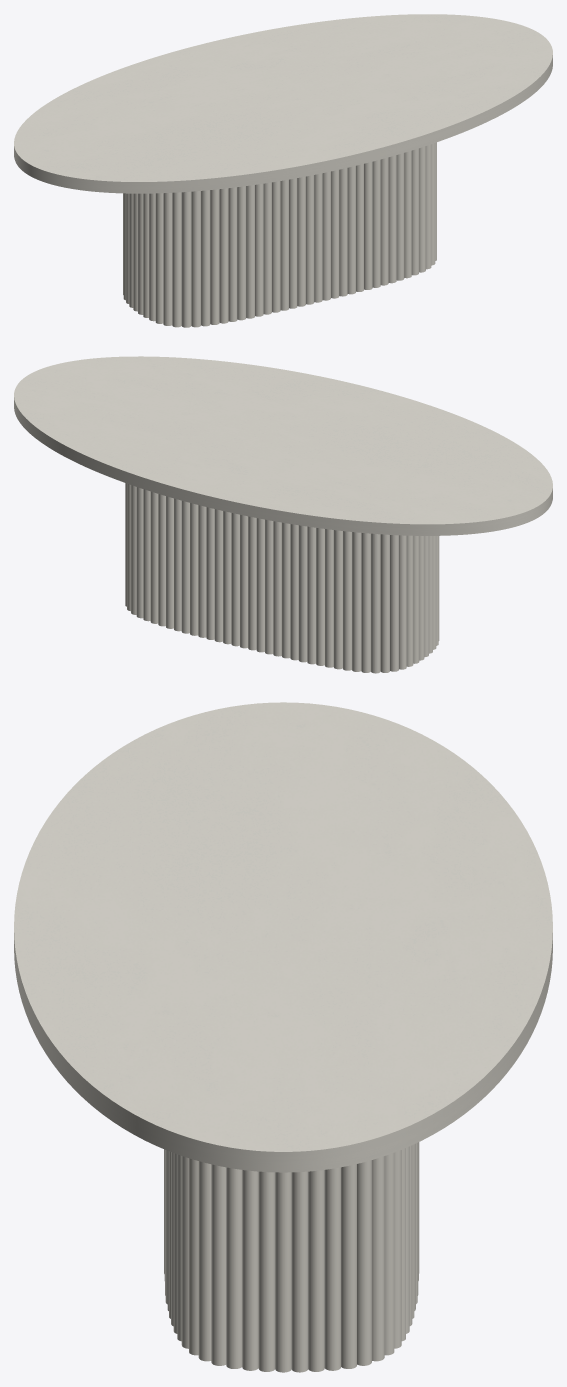
Rendered from pale_ellips_standard_newtable.glb.
3 views of the same model, one above another, from view 1: azimuth 30°, elevation 25°; view 2: azimuth 150°, elevation 25°; view 3: azimuth 270°, elevation 25° (orthographic). The views are drawn at different scales.
Visible parts, largest first — view 1: standard_ellips, newtable; view 2: standard_ellips, newtable; view 3: standard_ellips, newtable.
Boxes of the visible parts, left/top/right/bottom form: standard_ellips: left=14, top=14, right=552, bottom=193; newtable: left=123, top=142, right=436, bottom=327; standard_ellips: left=14, top=356, right=552, bottom=535; newtable: left=125, top=483, right=439, bottom=673; standard_ellips: left=14, top=702, right=552, bottom=1172; newtable: left=164, top=1142, right=419, bottom=1372.
Size of the model in its own units: 7.5 by 2.5 by 3.8.
Materials: 2 (2 with a texture image).
